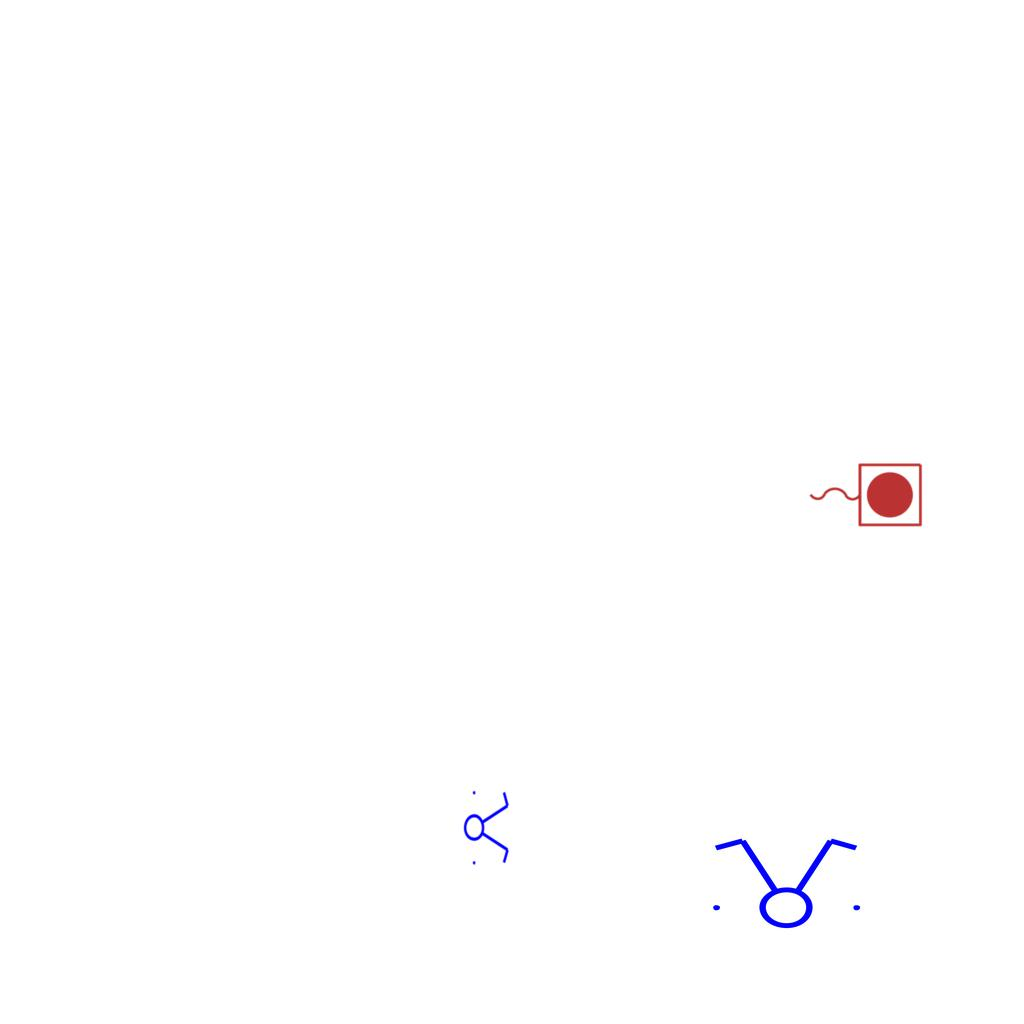Serienschalter: (701, 834, 869, 930), (463, 785, 511, 869)
Zugtaster: (804, 458, 926, 530)
